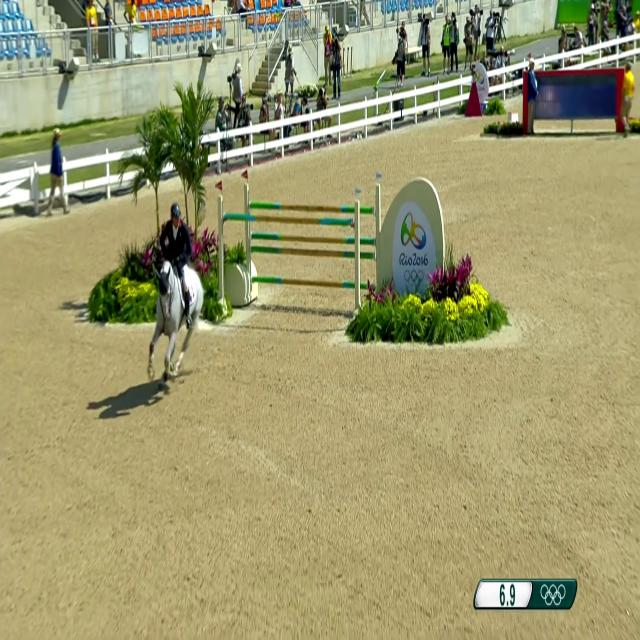Horse Running: (144, 200, 220, 416)
